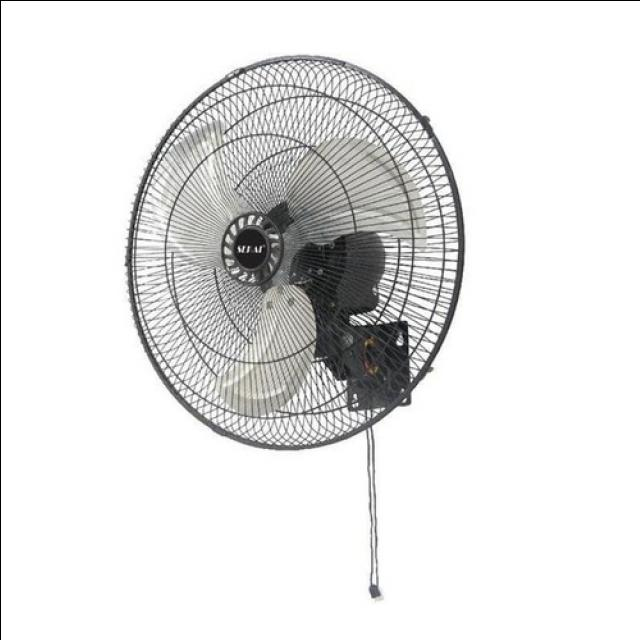fan: (127, 48, 470, 616)
